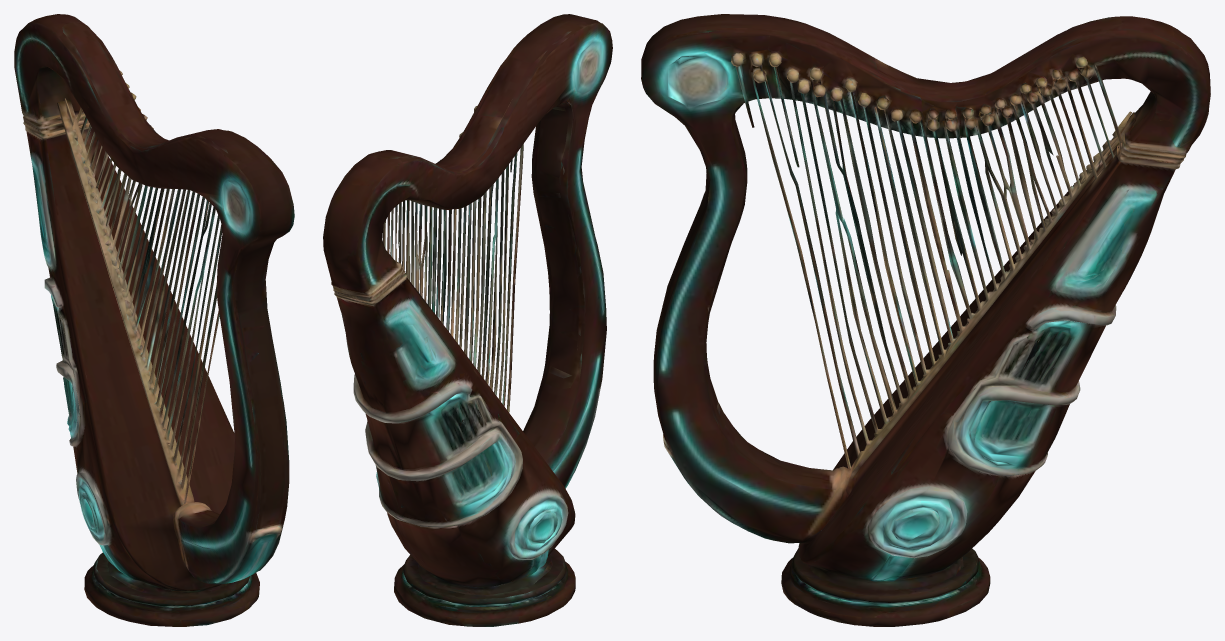
File: HARPE.glb
3 renders of one model, left to right at view 1: azimuth 30°, elevation 25°; view 2: azimuth 150°, elevation 25°; view 3: azimuth 270°, elevation 25°, orthographic. The views are drawn at different scales.
Visible parts, largest first — view 1: node_0; view 2: node_0; view 3: node_0.
Boxes of the visible parts, box(x1,y1,x2,y2) form: node_0: box(14, 14, 294, 626); node_0: box(323, 14, 612, 626); node_0: box(641, 14, 1210, 626).
Bounding box in the file's own units: 0.3022 × 0.9398 × 0.8608.
1 material, 1 textured.
